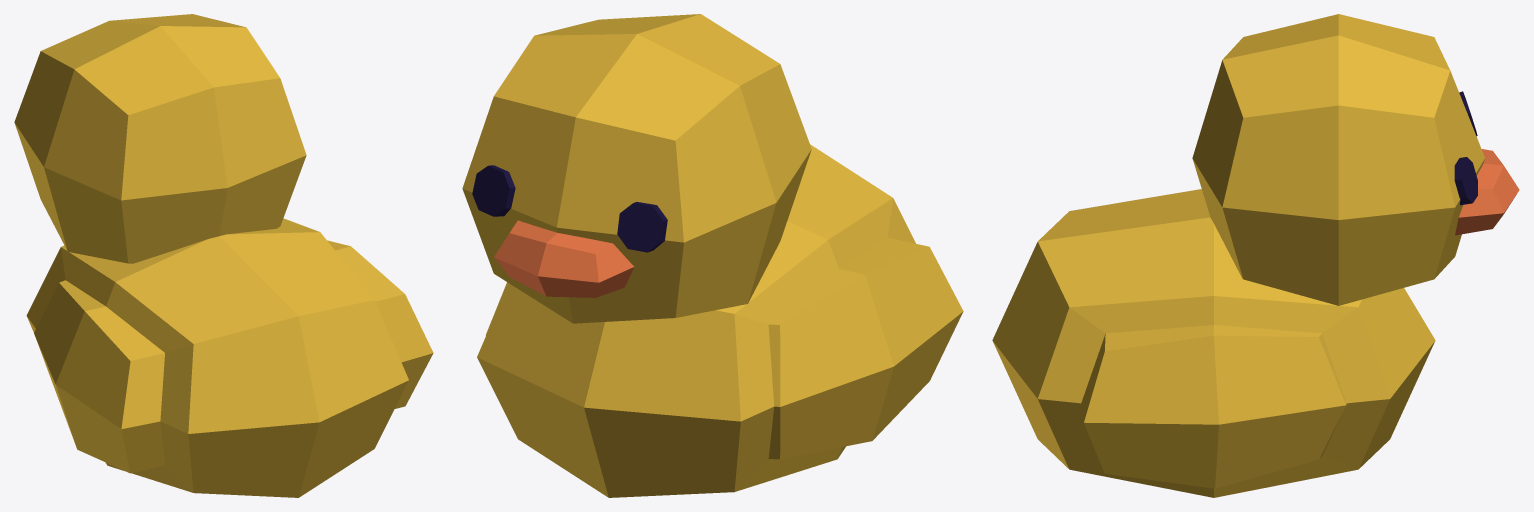
The model's file is duck.fbx.
The picture shows the model from 3 angles, left to right: view 1: azimuth 30°, elevation 25°; view 2: azimuth 150°, elevation 25°; view 3: azimuth 270°, elevation 25°; orthographic projection. The views are drawn at different scales.
Visible parts, largest first — view 1: Cube.004, Cube; view 2: Cube.004, Cube, Cube.001, Cube.003, Cube.002; view 3: Cube.004, Cube, Cube.001, Cube.002.
Boxes of the visible parts, x1=… form: Cube.004: x1=26, y1=218, x2=433, y2=497; Cube: x1=14, y1=14, x2=306, y2=263; Cube.004: x1=477, y1=144, x2=963, y2=497; Cube: x1=462, y1=14, x2=811, y2=323; Cube.001: x1=494, y1=220, x2=634, y2=297; Cube.003: x1=617, y1=202, x2=667, y2=252; Cube.002: x1=472, y1=165, x2=515, y2=216; Cube.004: x1=992, y1=189, x2=1435, y2=497; Cube: x1=1192, y1=14, x2=1484, y2=305; Cube.001: x1=1455, y1=149, x2=1519, y2=235; Cube.002: x1=1454, y1=157, x2=1477, y2=205.
Bounding box in the file's own units: 226 × 265 × 296.
